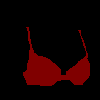reggiseno: (23, 26, 90, 86)
